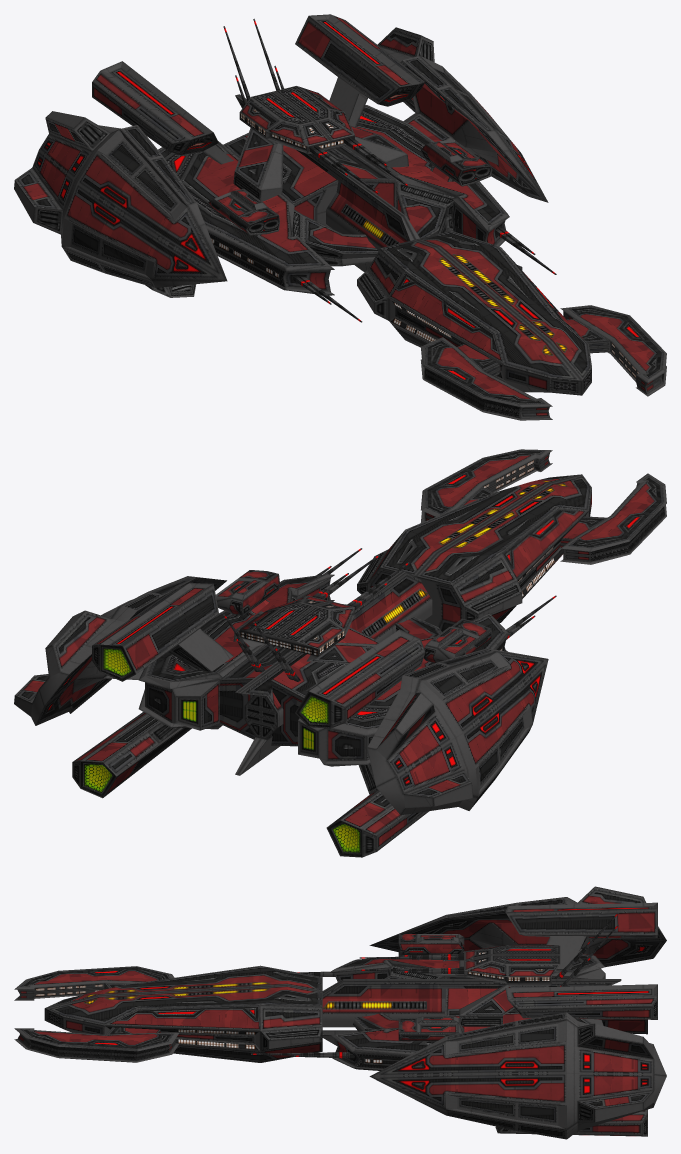
File: BFP_LargeStarship01.FBX
The picture shows the model from 3 angles, top to bottom: view 1: azimuth 30°, elevation 25°; view 2: azimuth 150°, elevation 25°; view 3: azimuth 270°, elevation 25°; orthographic projection. The views are drawn at different scales.
Parts seen in each view (by area): view 1: MainHullSection, WingShield_Right, Bridge, WingShield_Left, StrutEngine_UpperLeft, StrutEngine_UpperRight, ForwardWingHull_Right, ForwardWingHull_Left, Antennas, TorpedoLauncher_Left, TorpedoLauncher_Right; view 2: MainHullSection, WingShield_Right, StrutEngine_UpperLeft, WingShield_Left, StrutEngine_UpperRight, Bridge, ForwardWingHull_Right, StrutEngine_LowerLeft, ForwardWingHull_Left, StrutEngine_LowerRight, Antennas, RearEngine_Left (+3 smaller); view 3: MainHullSection, WingShield_Left, WingShield_Right, StrutEngine_UpperRight, Bridge, StrutEngine_UpperLeft, ForwardWingHull_Left, ForwardWingHull_Right, Antennas, TorpedoLauncher_Left, TorpedoLauncher_Right, StrutEngine_LowerLeft (+1 smaller).
Boxes of the visible parts, x1,y1,x2,y2 form: MainHullSection: (158,94,591,395); WingShield_Right: (14,111,227,287); Bridge: (233,86,408,201); WingShield_Left: (377,27,548,202); StrutEngine_UpperLeft: (295,14,425,126); StrutEngine_UpperRight: (92,61,233,164); ForwardWingHull_Right: (420,337,552,420); ForwardWingHull_Left: (560,305,666,396); Antennas: (223,18,556,322); TorpedoLauncher_Left: (420,140,492,186); TorpedoLauncher_Right: (208,189,279,235); MainHullSection: (138,474,591,775); WingShield_Right: (367,648,548,815); StrutEngine_UpperLeft: (92,582,233,681); WingShield_Left: (14,576,226,725); StrutEngine_UpperRight: (295,629,425,728); Bridge: (233,595,376,663); ForwardWingHull_Right: (560,473,666,564); StrutEngine_LowerLeft: (72,712,191,798); ForwardWingHull_Left: (421,449,552,522); StrutEngine_LowerRight: (326,763,429,857); Antennas: (223,548,556,681); RearEngine_Left: (171,680,219,730); MainHullSection: (44,952,621,1070); WingShield_Left: (369,1012,666,1139); WingShield_Right: (369,886,666,966); StrutEngine_UpperRight: (505,902,657,969); Bridge: (459,945,560,1026); StrutEngine_UpperLeft: (505,984,657,1019); ForwardWingHull_Left: (14,1027,178,1062); ForwardWingHull_Right: (14,966,174,1000); Antennas: (251,912,618,1058); TorpedoLauncher_Left: (398,1016,464,1041); TorpedoLauncher_Right: (398,934,464,961); StrutEngine_LowerLeft: (495,1109,647,1136).
Bounding box in the file's own units: 3830 × 1632 × 5885.
1 material, 1 textured.
